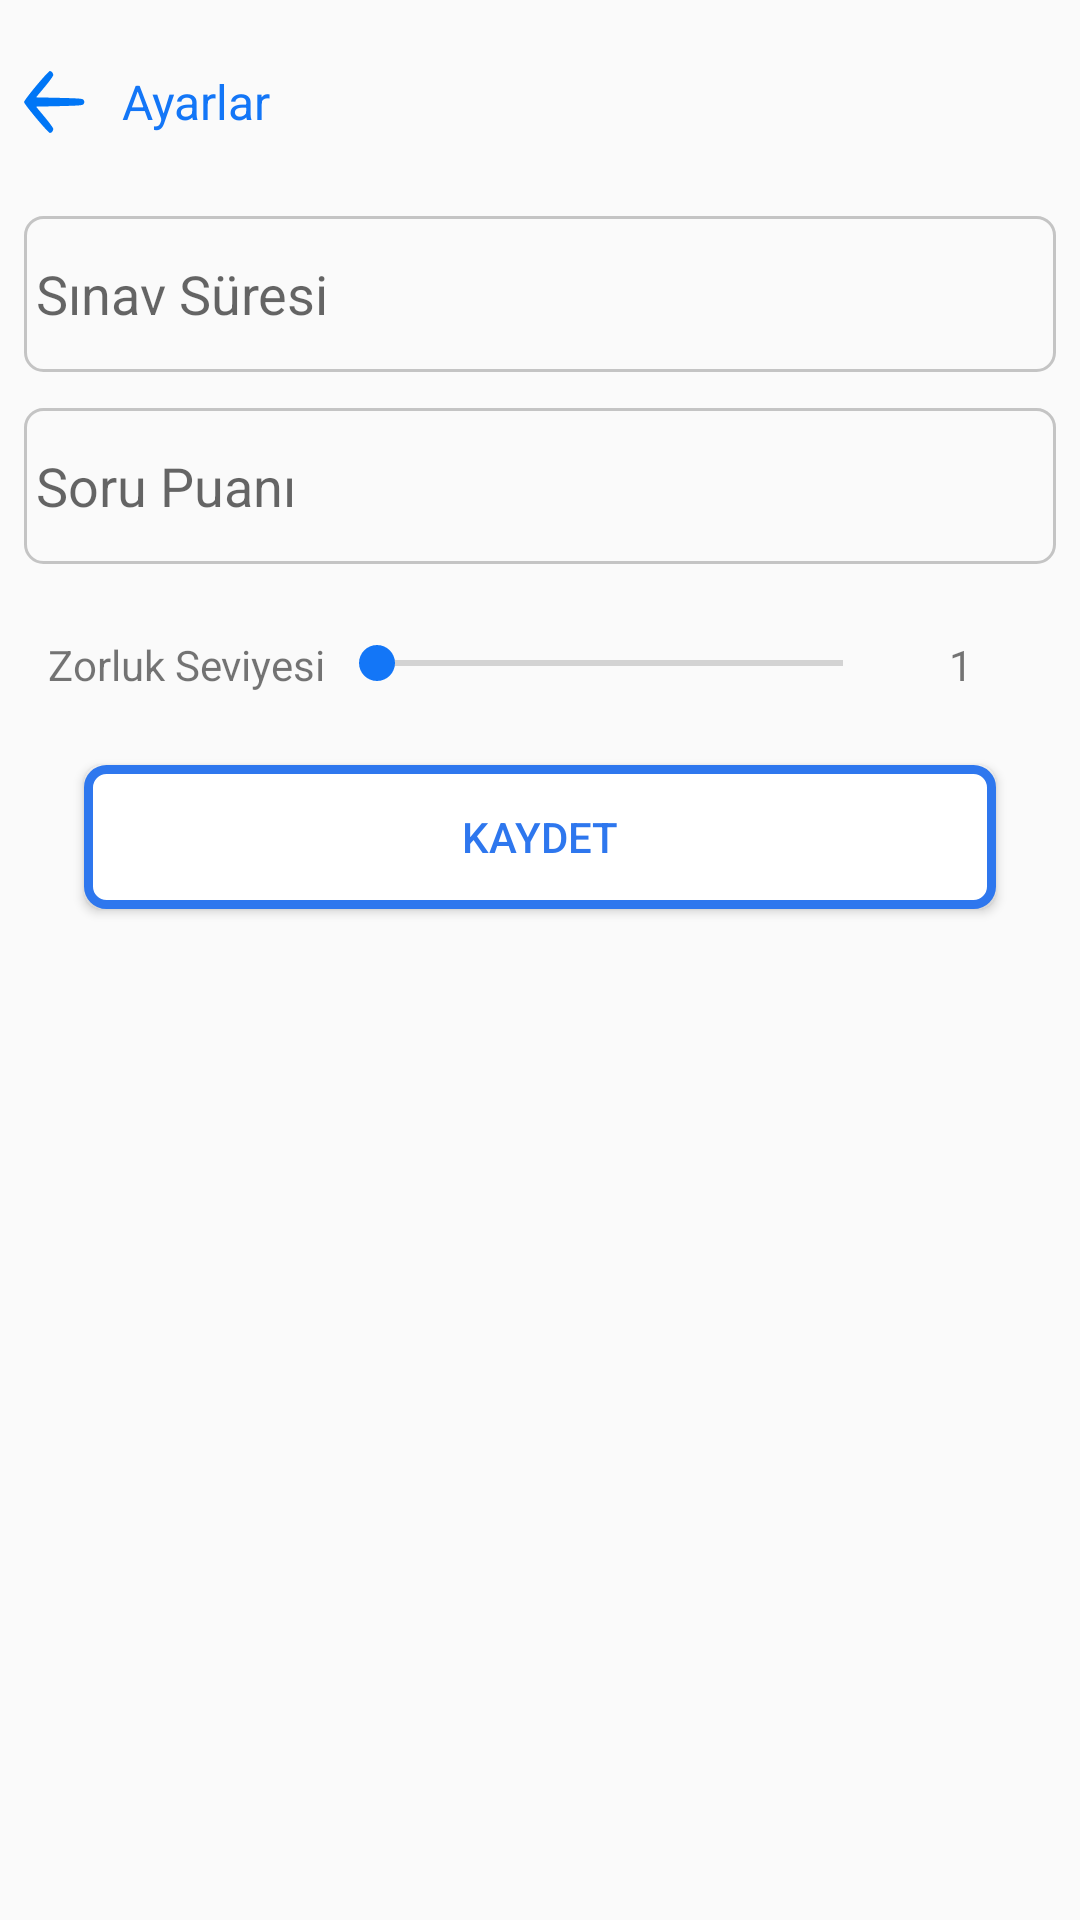

Icon bounding boxes for this 1080 × 1920 phone screenshot, format (x1, y1, x2, y2):
back: (24, 71, 85, 133)
